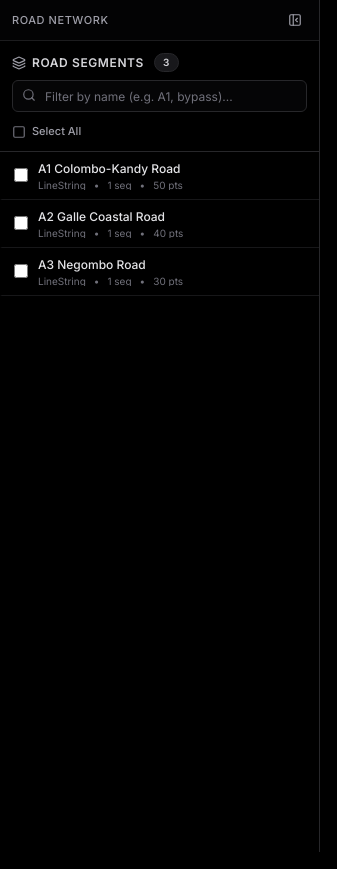
LeftSidebar › filters features based on search query
Expected: the text "A1 Colombo-Kandy Road" is shown, [38,161,183,178]
Expected: the text "A2 Galle Coastal Road" is shown, [38,209,183,226]
In the field with placeholder "Filter by name (e.g. A1, bypass)...": {"x": 160, "y": 96} [12,80,307,112], type "Kandy"
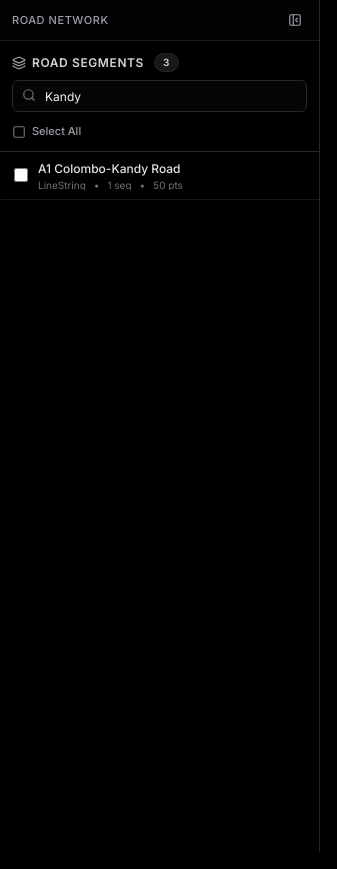
Expected: the text "A1 Colombo-Kandy Road" is shown, [38,161,183,178]
Expected: the text "A2 Galle Coastal Road" is gone
